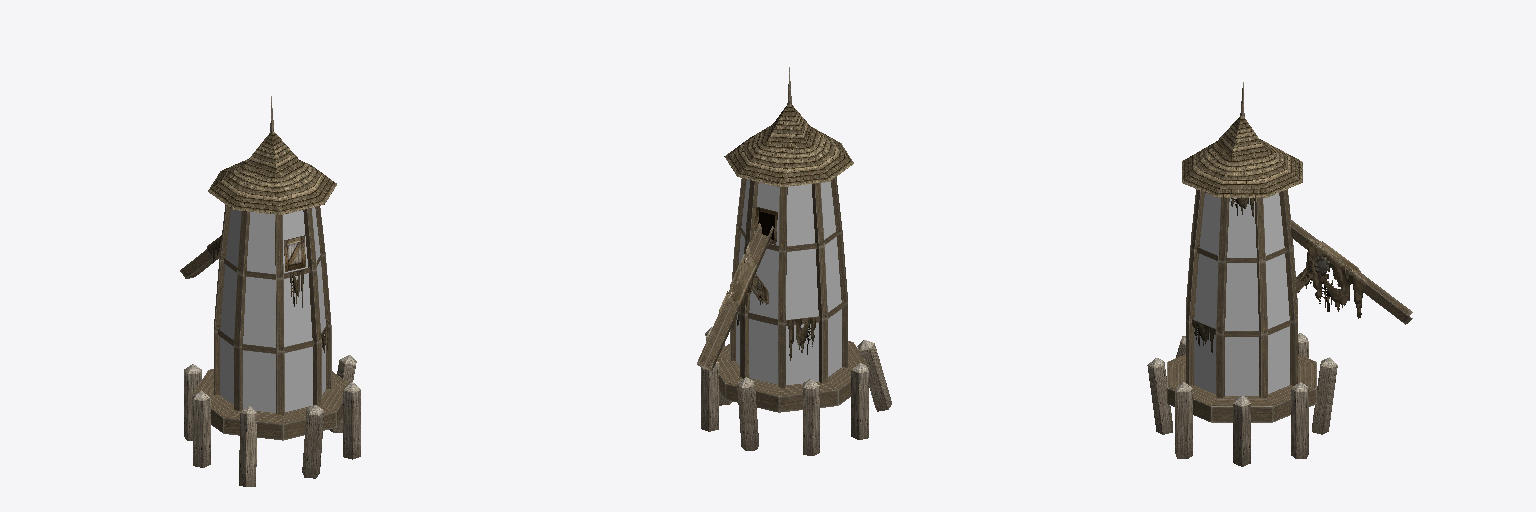
3 renders of one model, left to right at view 1: azimuth 30°, elevation 25°; view 2: azimuth 150°, elevation 25°; view 3: azimuth 270°, elevation 25°, orthographic.
Visible parts, largest first — view 1: westfallgrainsilo012, westfallgrainsilo011, westfallgrainsilo014, westfallgrainsilo010, westfallgrainsilo013, westfallgrainsilo015; view 2: westfallgrainsilo011, westfallgrainsilo012, westfallgrainsilo014, westfallgrainsilo010, westfallgrainsilo015, westfallgrainsilo013; view 3: westfallgrainsilo012, westfallgrainsilo011, westfallgrainsilo014, westfallgrainsilo010, westfallgrainsilo015.
Part boxes in pixels (x1,y1,x2,y2): westfallgrainsilo012: (220,207,325,412); westfallgrainsilo011: (180,205,348,440); westfallgrainsilo014: (184,96,360,486); westfallgrainsilo010: (208,131,336,214); westfallgrainsilo013: (284,235,305,271); westfallgrainsilo015: (207,235,327,352); westfallgrainsilo011: (697,177,868,412); westfallgrainsilo012: (736,179,841,384); westfallgrainsilo014: (701,67,891,455); westfallgrainsilo010: (724,104,853,186); westfallgrainsilo015: (719,244,815,360); westfallgrainsilo013: (755,207,777,244); westfallgrainsilo012: (1194,193,1289,395); westfallgrainsilo011: (1167,189,1412,422); westfallgrainsilo014: (1147,82,1337,466); westfallgrainsilo010: (1182,115,1302,197); westfallgrainsilo015: (1193,198,1367,352).
Bounding box in the file's own units: 13.91 × 28.77 × 19.5.
6 materials, 5 textured.